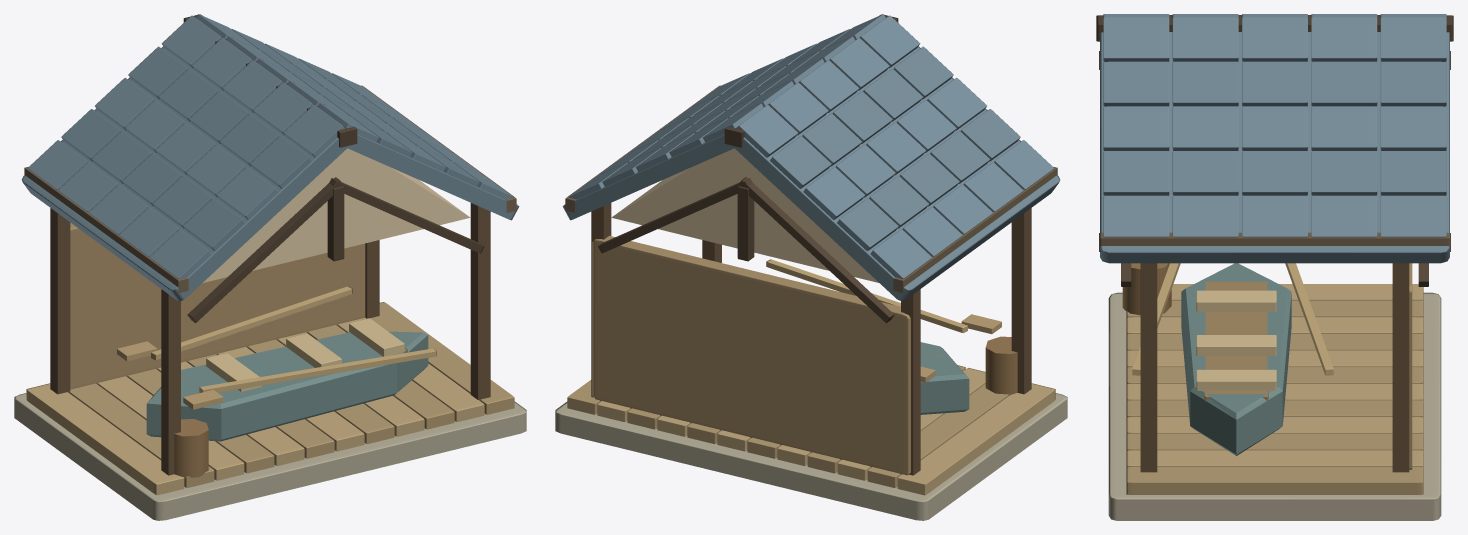
The model's file is boathouse-2.glb.
3 renders of one model, left to right at view 1: azimuth 30°, elevation 25°; view 2: azimuth 150°, elevation 25°; view 3: azimuth 270°, elevation 25°, orthographic. The views are drawn at different scales.
Visible parts, largest first — view 1: boathouse-2-0; view 2: boathouse-2-0; view 3: boathouse-2-0.
Boxes of the visible parts, left/top/right/bottom form: boathouse-2-0: left=14, top=14, right=526, bottom=520; boathouse-2-0: left=555, top=14, right=1067, bottom=520; boathouse-2-0: left=1096, top=14, right=1453, bottom=520.
Size of the model in its own units: 2.8 by 2.54 by 2.04.
